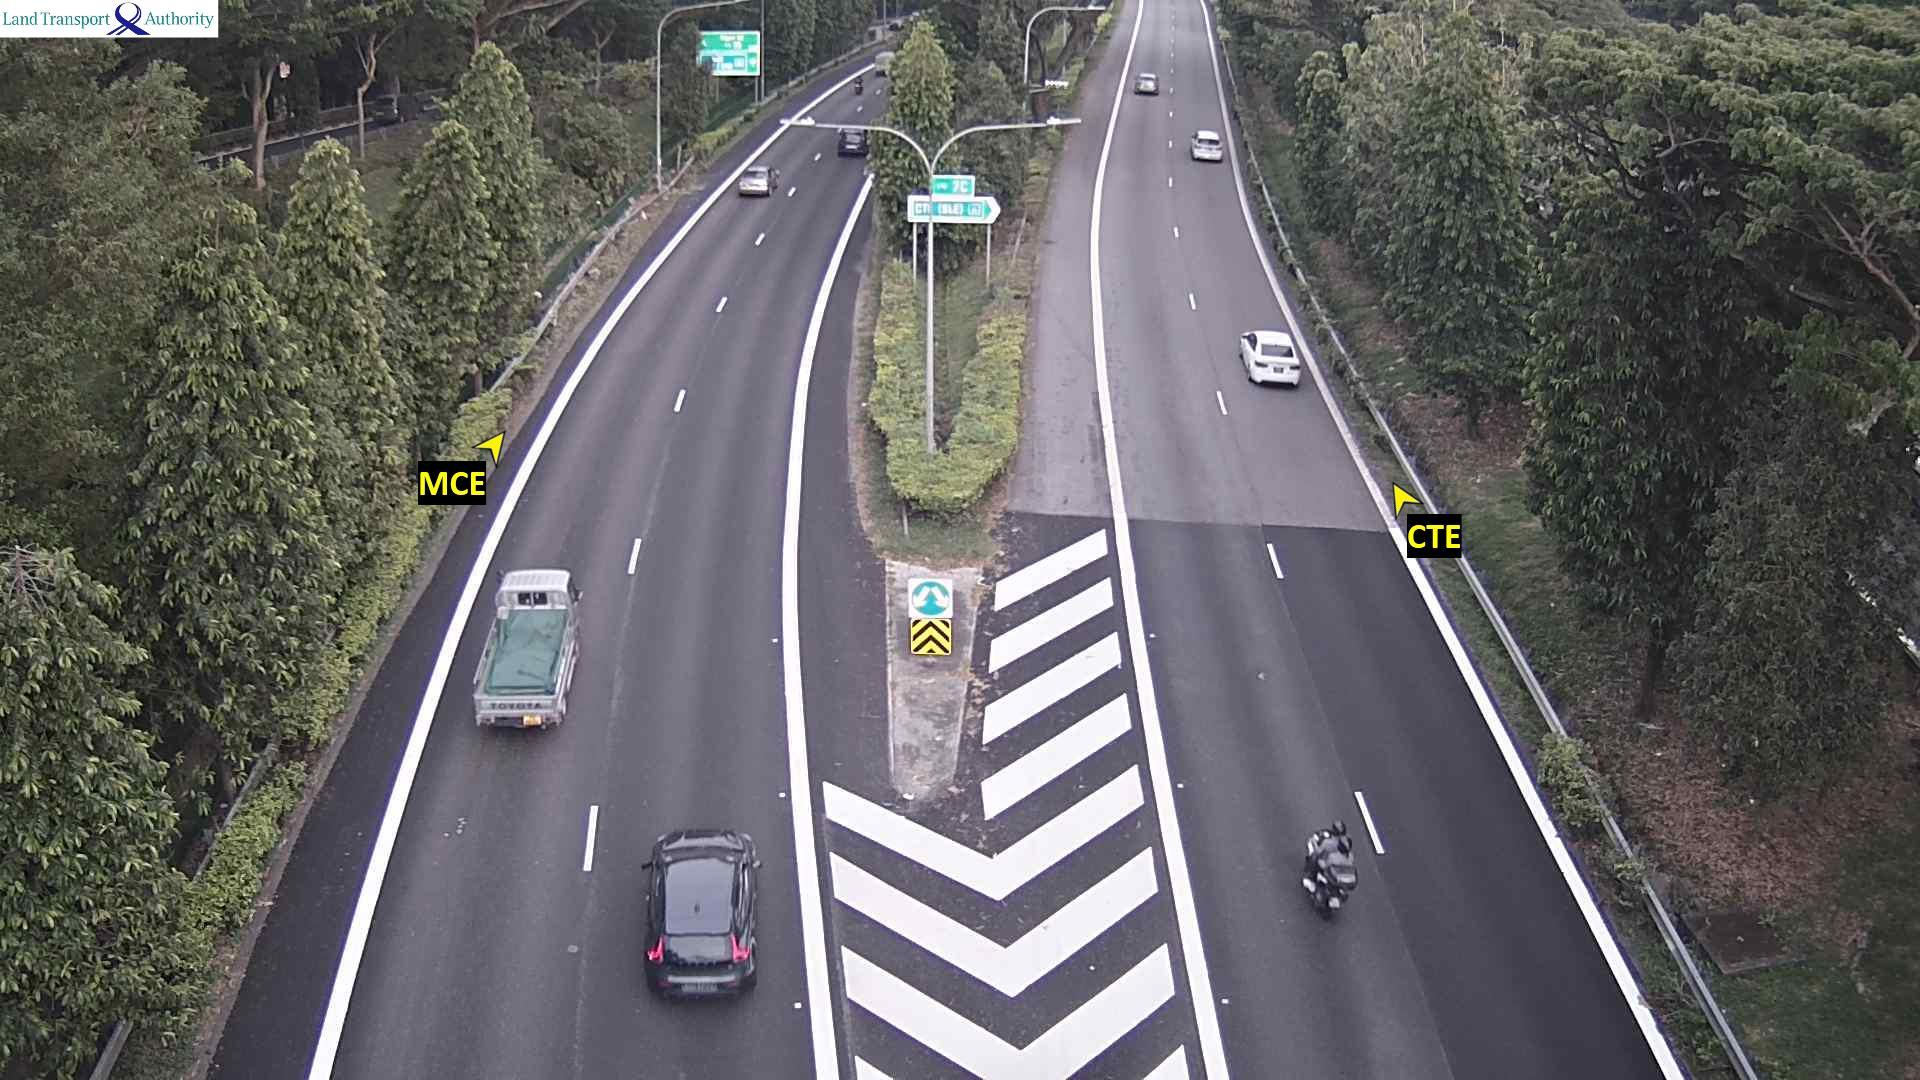cars: (640, 827, 761, 1001), (1238, 328, 1302, 388), (736, 164, 779, 196), (1189, 129, 1223, 161), (836, 126, 868, 156), (873, 49, 895, 76), (1133, 71, 1158, 94), (867, 24, 883, 41), (886, 17, 902, 31)
motorcycle: (1299, 818, 1358, 918), (853, 74, 863, 93)
trucks: (469, 568, 581, 732)
